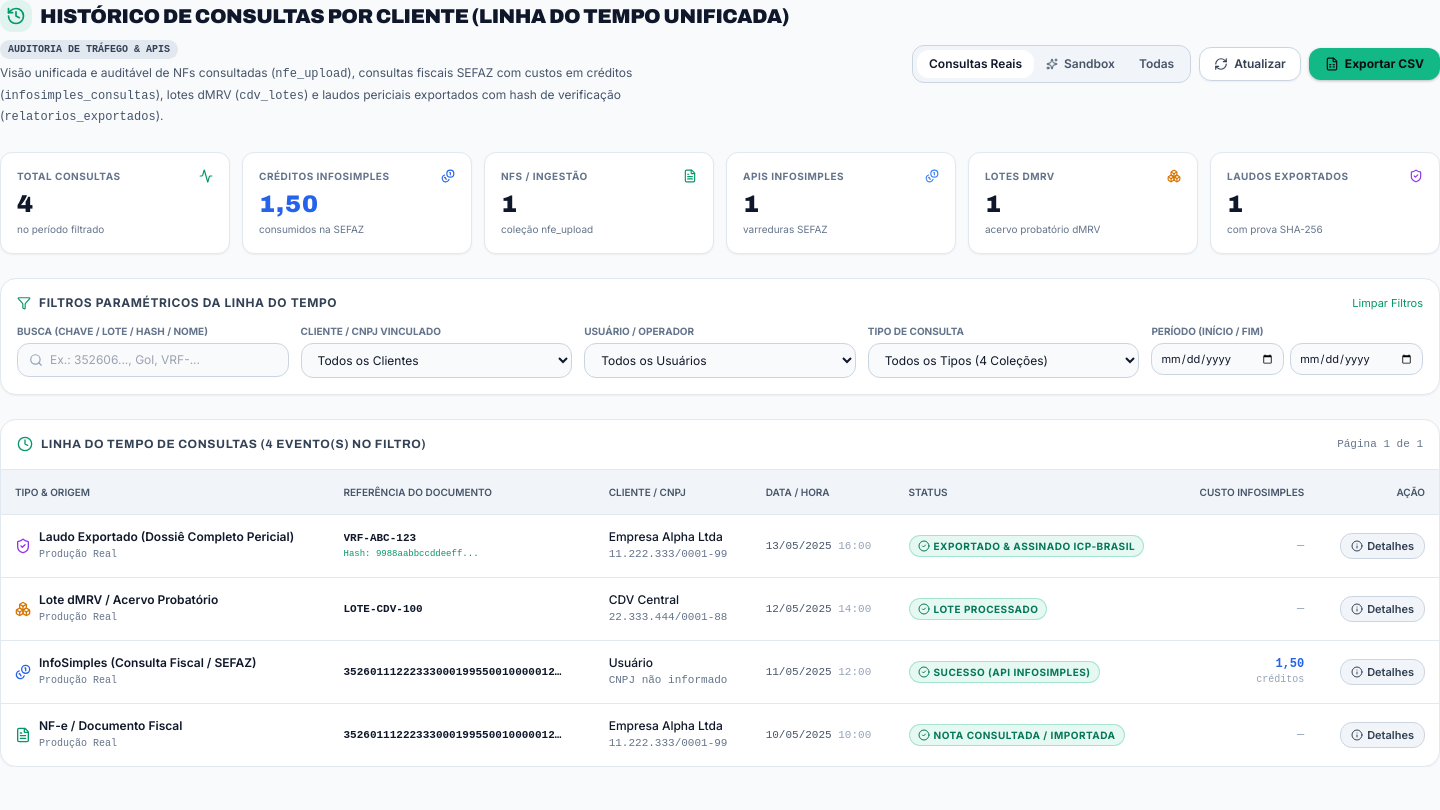
Test: ConsoleHistoricoConsultasTab Component › permite abrir o modal de detalhes e fechar
This screenshot has width=1440, height=810.
Click the button with test id "btn-detalhes-info-info-1" at (1383, 672), box [1340,658,1425,684]
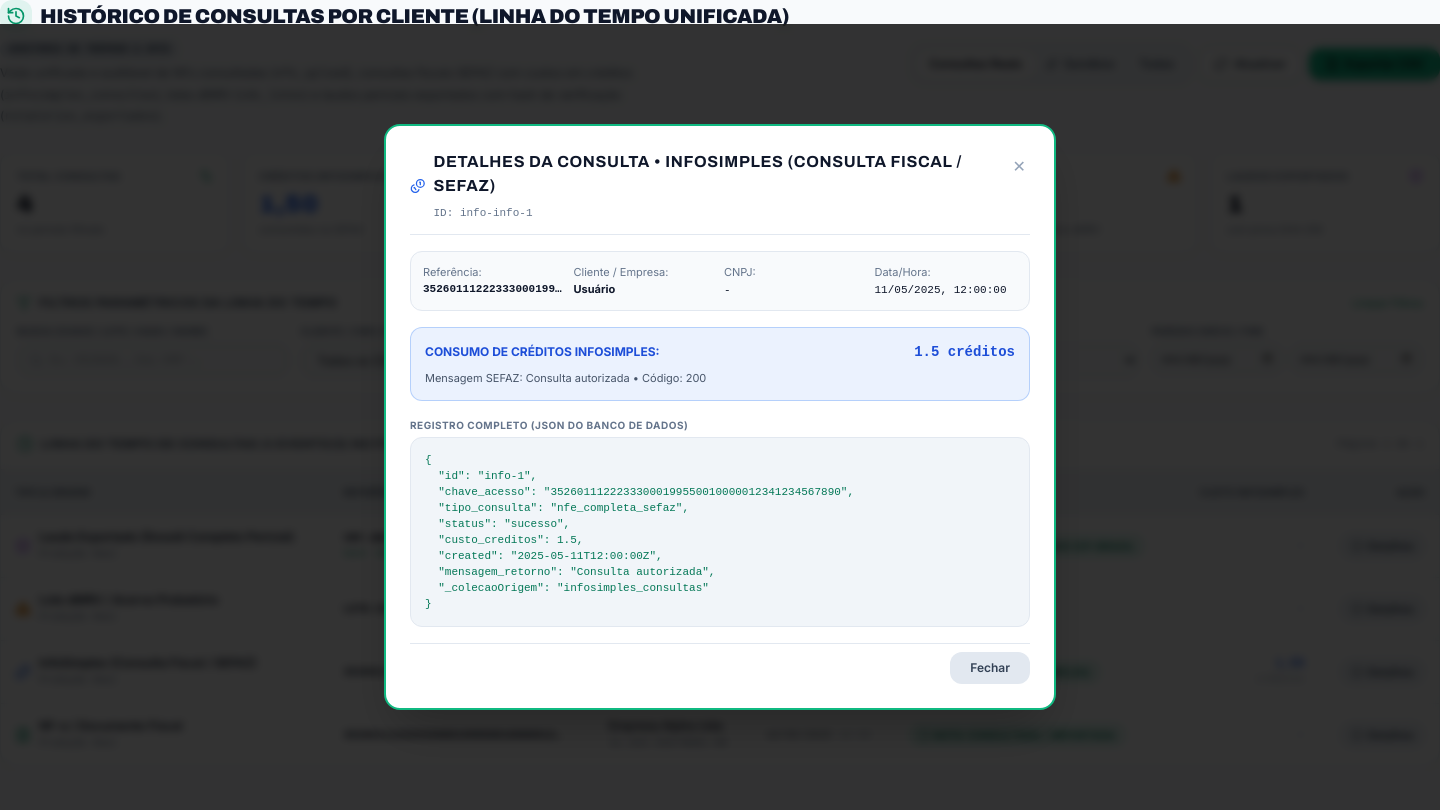
Expected: the element with test id "modal-detalhes-consulta" is shown
Expected: the text "Consumo de Créditos InfoSimples:" is shown, [425,344,660,360]
Expected: the text "1.5 créditos" is shown, [914,342,1015,362]
Note: Fechar modal
Click the button with test id "btn-fechar-modal-detalhes" at (1019, 166), box [1009,150,1030,182]
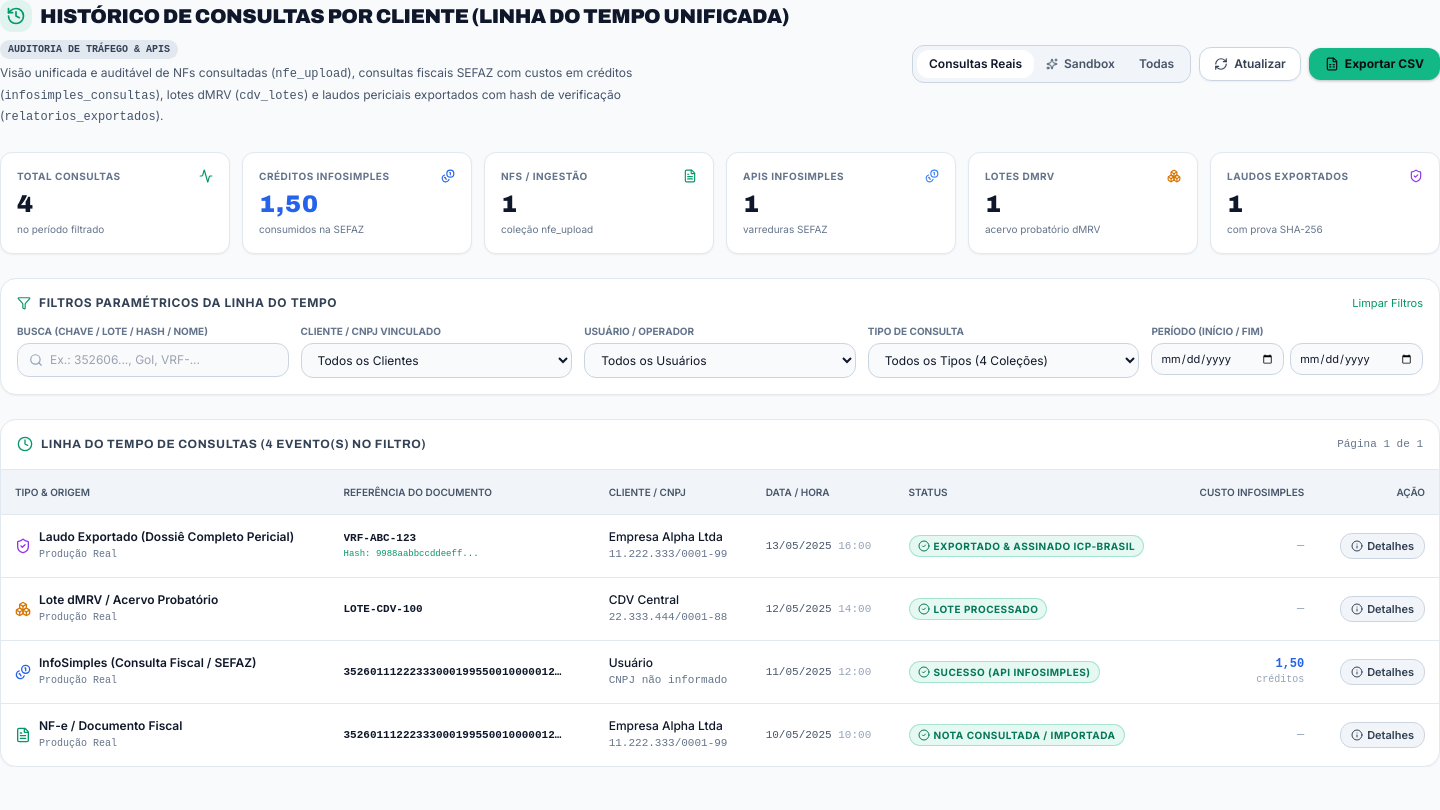
Expected: the element with test id "modal-detalhes-consulta" is gone
